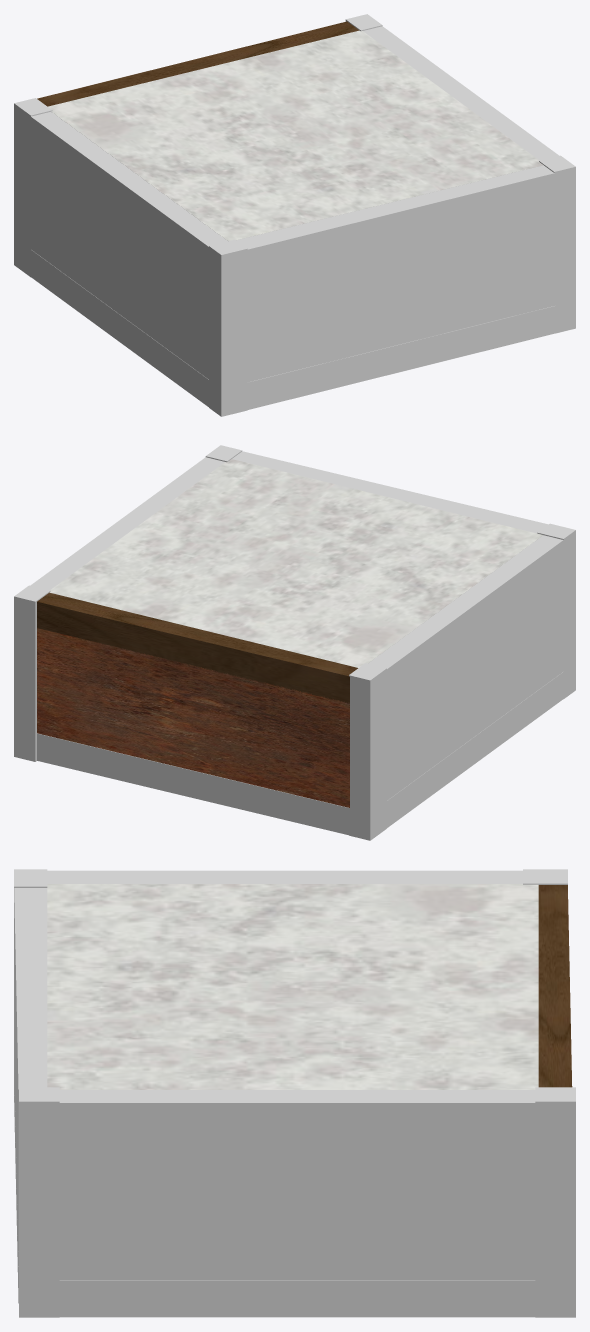
Rendered from foundation3.fbx.
3 views of the same model, one above another, from view 1: azimuth 30°, elevation 25°; view 2: azimuth 150°, elevation 25°; view 3: azimuth 270°, elevation 25° (orthographic). The views are drawn at different scales.
Parts seen in each view (by area): view 1: Cube.012, Cube.018, Cube.009, Cube.017, Cube.015, Cube.008, Cube.019, Cube.005, Cube.003, Cube.010, Cube.001, Cube.007; view 2: Cube.012, Cube.006, Cube.009, Cube.010, Cube.011, Cube.008, Cube.007, Cube.005, Cube.002, Cube.017, Cube.001, Cube.019; view 3: Cube.012, Cube, Cube.001, Cube.004, Cube.003, Cube.002, Cube.008, Cube.017, Cube.010, Cube.019, Cube.018, Cube.007.
Part boxes in pixels (x1,y1,x2,y2): Cube.012: (48,30,543,240); Cube.018: (247,200,555,382); Cube.009: (30,144,208,379); Cube.017: (237,165,555,276); Cube.015: (247,306,555,409); Cube.008: (30,112,227,273); Cube.019: (209,239,247,416); Cube.005: (30,249,208,406); Cube.003: (539,155,575,333); Cube.010: (37,21,359,106); Cube.001: (363,26,559,160); Cube.007: (14,98,52,277); Cube.012: (49,459,542,667); Cube.006: (37,628,349,807); Cube.009: (387,566,563,800); Cube.010: (37,592,357,703); Cube.011: (37,733,349,835); Cube.008: (368,535,563,695); Cube.007: (349,663,386,840); Cube.005: (387,672,563,827); Cube.002: (14,585,50,761); Cube.017: (232,451,548,533); Cube.001: (30,457,224,590); Cube.019: (537,523,575,698); Cube.012: (47,884,538,1089); Cube: (58,1138,536,1279); Cube.001: (58,1090,536,1139); Cube.004: (58,1280,536,1317); Cube.003: (19,1087,59,1317); Cube.002: (535,1087,575,1317); Cube.008: (47,870,522,883); Cube.017: (14,888,47,1125); Cube.010: (538,885,572,1087); Cube.019: (14,869,47,1102); Cube.018: (14,939,18,1266); Cube.007: (523,869,567,884).
Bounding box in the file's own units: 703 × 305 × 719.
